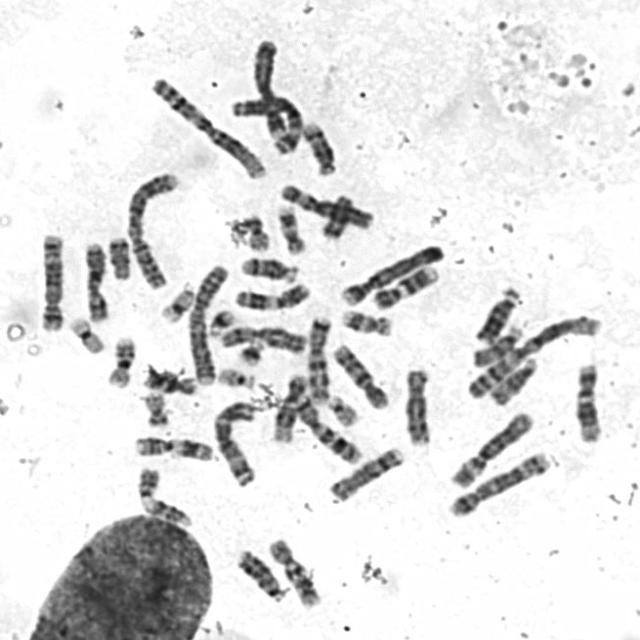A1: (144, 70, 268, 181), (462, 308, 605, 402)
A2: (119, 164, 184, 290), (184, 257, 232, 387)
A3: (225, 88, 306, 156), (207, 394, 260, 488)
B4: (334, 237, 447, 308), (246, 32, 288, 140)
B5: (443, 444, 553, 518), (34, 226, 68, 332)
C10: (326, 338, 392, 411), (264, 531, 324, 610)
C11: (228, 276, 314, 311), (129, 430, 218, 462)
C12: (268, 369, 310, 444), (570, 357, 606, 444)
C6: (444, 404, 536, 490), (274, 176, 375, 230)
C7: (288, 389, 366, 465), (302, 310, 335, 406)
C8: (324, 441, 406, 503), (398, 360, 434, 447)
C9: (132, 460, 196, 529), (367, 258, 442, 310)
D13: (232, 542, 290, 603), (470, 280, 524, 344)
D14: (297, 115, 339, 177), (234, 249, 302, 284)
D15: (485, 351, 541, 406), (467, 318, 527, 369)
E16: (101, 330, 138, 389), (139, 362, 200, 397)
E17: (335, 302, 395, 338), (272, 199, 308, 256)
E18: (316, 188, 356, 240), (102, 230, 134, 281)
F19: (154, 279, 197, 324), (64, 311, 106, 355)
F20: (240, 208, 272, 253), (138, 386, 171, 428)
G21: (202, 301, 238, 338), (232, 332, 268, 367)
G22: (322, 389, 362, 427), (212, 361, 259, 389)
X: (213, 319, 308, 354), (78, 236, 110, 323)
